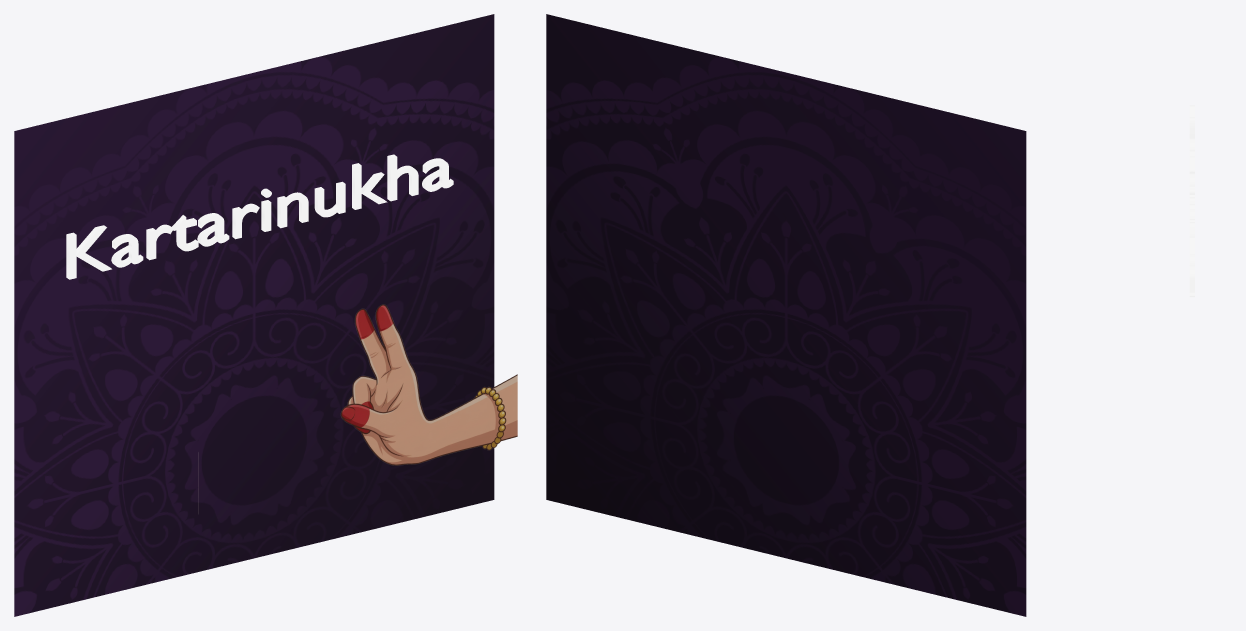
Rendered from Kartarinukha.glb.
3 views of the same model, side by side, from view 1: azimuth 30°, elevation 25°; view 2: azimuth 150°, elevation 25°; view 3: azimuth 270°, elevation 25° (orthographic). The views are drawn at different scales.
Parts seen in each view (by area): view 1: Plane.006, Plane.007, Text.028; view 2: Plane.006; view 3: Text.028.
Part boxes in pixels (left/top/right/bottom): Plane.006: left=14, top=14, right=494, bottom=616; Plane.007: left=341, top=304, right=517, bottom=465; Text.028: left=66, top=154, right=453, bottom=279; Plane.006: left=546, top=14, right=1026, bottom=616; Text.028: left=1189, top=105, right=1194, bottom=297.
Bounding box in the file's own units: 2.48 × 2.4 × 0.8821.
Materials: 3 (2 with a texture image).
